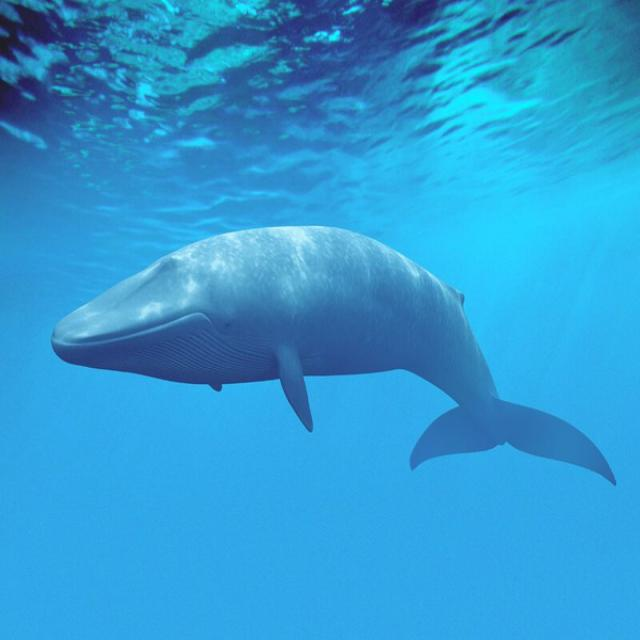whale: (51, 227, 615, 483)
